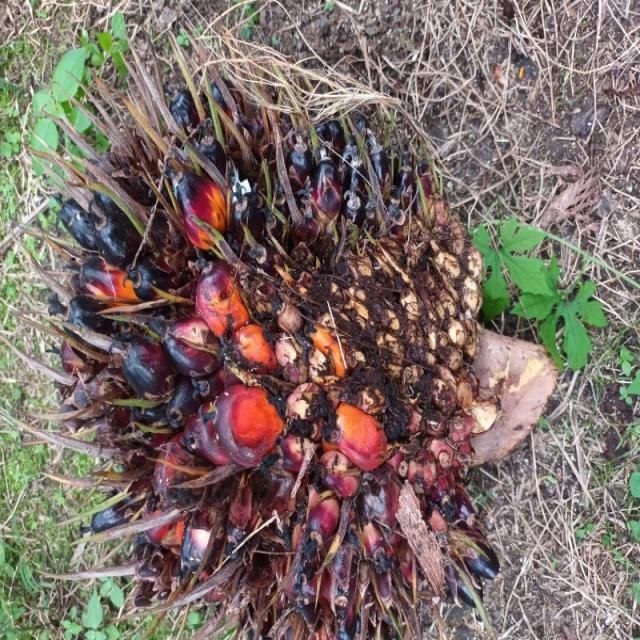fraksi 1: (0, 66, 421, 640)
